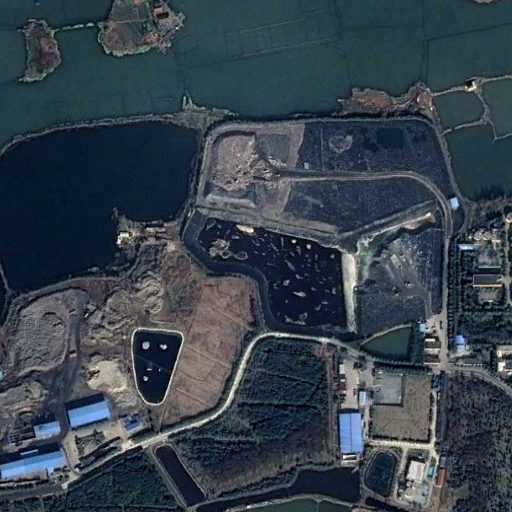lf: (181, 110, 457, 362)
